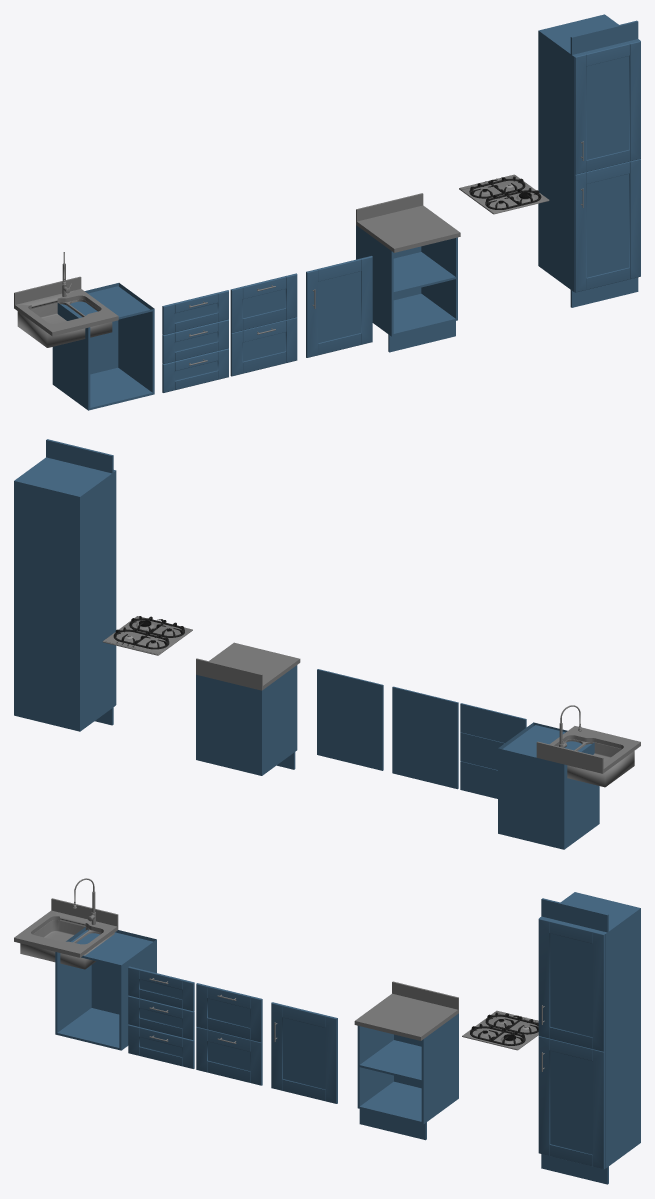
File: Kitchen Kit.FBX
The picture shows the model from 3 angles, top to bottom: view 1: azimuth 30°, elevation 25°; view 2: azimuth 150°, elevation 25°; view 3: azimuth 330°, elevation 25°; orthographic projection.
Visible parts, largest first — view 1: Unit001, Door002, Door001, Unit, Door, Fridge/FreezerCabinet001, Fridge/FreezerCabinet, 2DrDoor01, 2DrDoor00, Worktop_1x, 3DrDoor00, 3DrDoor02 (+10 smaller); view 2: Fridge/FreezerCabinet001, Fridge/FreezerCabinet, Unit001, Unit, Door, 2DrDoor01, 2DrDoor00, Worktop_1x, 3DrDoor00, Worktop_1x001, SinkBasin, Skirt002 (+5 smaller); view 3: Unit001, Door002, Door001, Unit, Door, Fridge/FreezerCabinet001, Fridge/FreezerCabinet, 2DrDoor01, 2DrDoor00, Worktop_1x, 3DrDoor00, 3DrDoor01 (+12 smaller).
Boxes of the visible parts, <box> form: Unit001: <box>52,283,154,410</box>; Door002: <box>574,40,640,174</box>; Door001: <box>574,159,640,292</box>; Unit: <box>356,225,457,336</box>; Door: <box>306,256,372,357</box>; Fridge/FreezerCabinet001: <box>538,14,639,173</box>; Fridge/FreezerCabinet: <box>538,148,574,291</box>; 2DrDoor01: <box>230,273,297,333</box>; 2DrDoor00: <box>230,317,297,376</box>; Worktop_1x: <box>356,205,460,252</box>; 3DrDoor00: <box>162,290,228,335</box>; 3DrDoor02: <box>162,348,228,392</box>; Fridge/FreezerCabinet001: <box>14,457,115,614</box>; Fridge/FreezerCabinet: <box>14,588,115,731</box>; Unit001: <box>498,722,599,849</box>; Unit: <box>196,665,297,775</box>; Door: <box>317,669,383,770</box>; 2DrDoor01: <box>392,686,458,745</box>; 2DrDoor00: <box>392,730,458,789</box>; Worktop_1x: <box>196,642,300,690</box>; 3DrDoor00: <box>460,703,526,742</box>; Worktop_1x001: <box>536,726,640,773</box>; SinkBasin: <box>558,739,634,787</box>; Skirt002: <box>46,439,113,473</box>; Unit001: <box>55,927,156,1050</box>; Door002: <box>538,918,605,1051</box>; Door001: <box>538,1036,605,1169</box>; Unit: <box>357,1013,458,1124</box>; Door: <box>271,1002,337,1103</box>; Fridge/FreezerCabinet001: <box>540,892,640,1051</box>; Fridge/FreezerCabinet: <box>605,1026,640,1168</box>; 2DrDoor01: <box>196,983,262,1042</box>; 2DrDoor00: <box>196,1027,262,1085</box>; Worktop_1x: <box>354,993,458,1040</box>; 3DrDoor00: <box>128,966,194,1011</box>; 3DrDoor01: <box>128,995,194,1040</box>.
Bounding box in the file's own units: 210 × 91.91 × 24.44.
